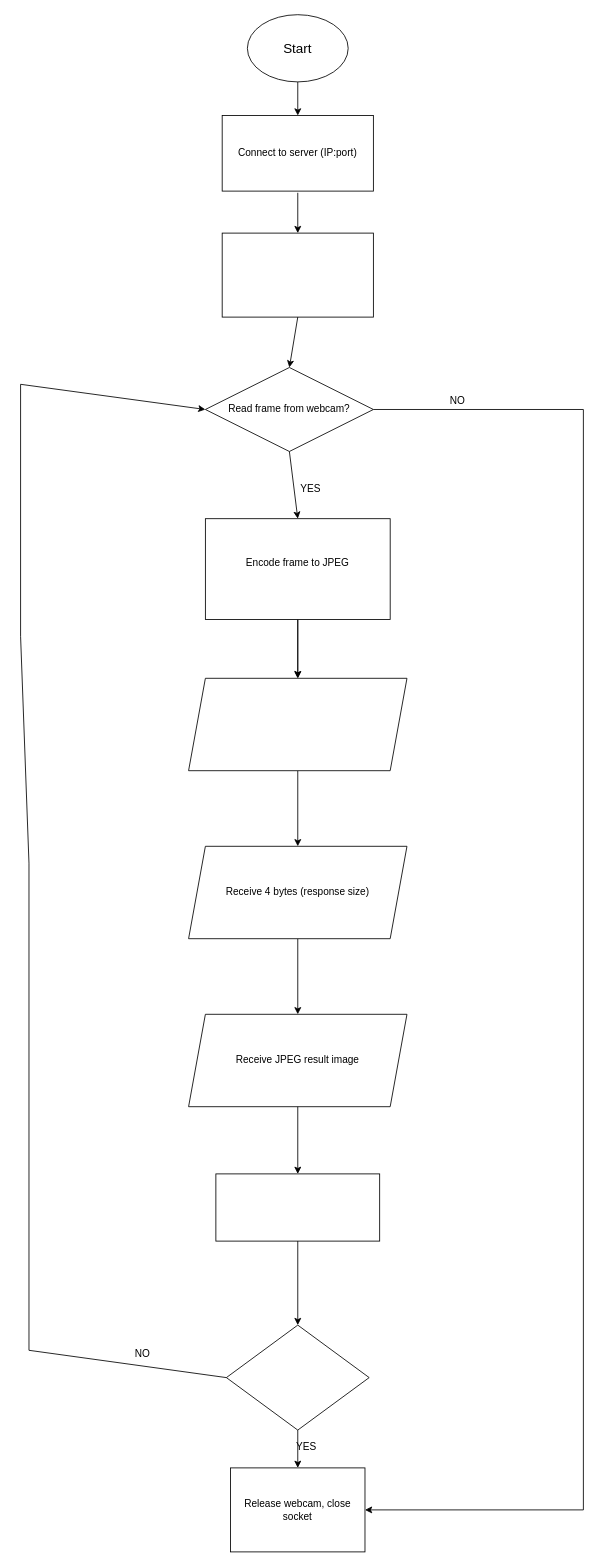
Some shapes in this 605 by 1567 pixel diagram are drawn without their labels. Here are the shapes that lost their labels. From the top down, the centre of each, then its label:
At (x=297, y=274): "Start webcam".
At (x=297, y=724): "Send 4 bytes + JPEG bytes".
At (x=297, y=1207): "Decode image and display".
At (x=297, y=1377): "Esc pressed?".
